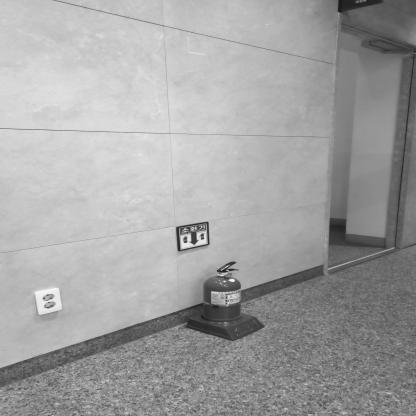FE: (191, 261, 265, 341)
